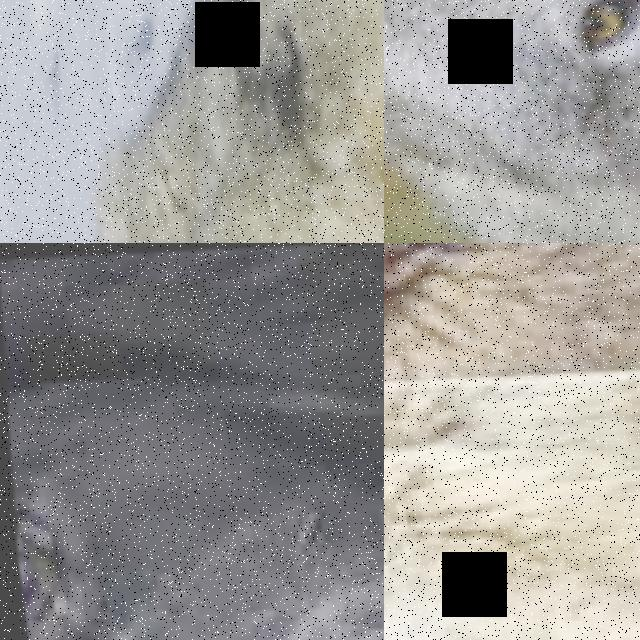dog: (0, 243, 384, 640)
wolf: (0, 0, 384, 243), (384, 345, 640, 640), (384, 0, 640, 243), (384, 243, 640, 393)
